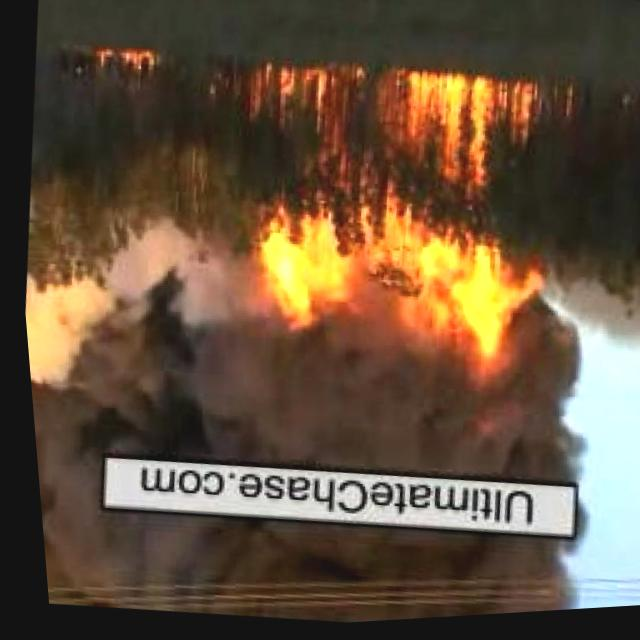helmet: (224, 55, 540, 377), (82, 45, 156, 78)
no_helmet: (21, 309, 598, 511), (32, 476, 578, 640), (38, 204, 246, 350), (514, 295, 577, 376)
